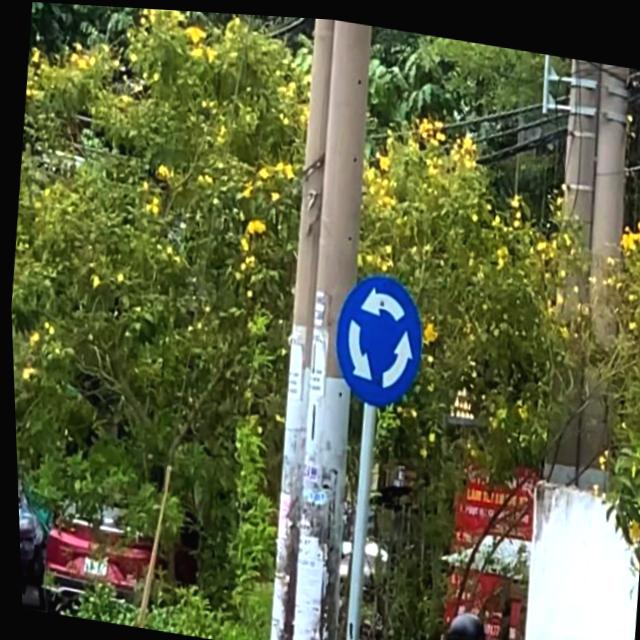Noi giao nhau chay theo vong xuyen: (322, 262, 428, 410)
